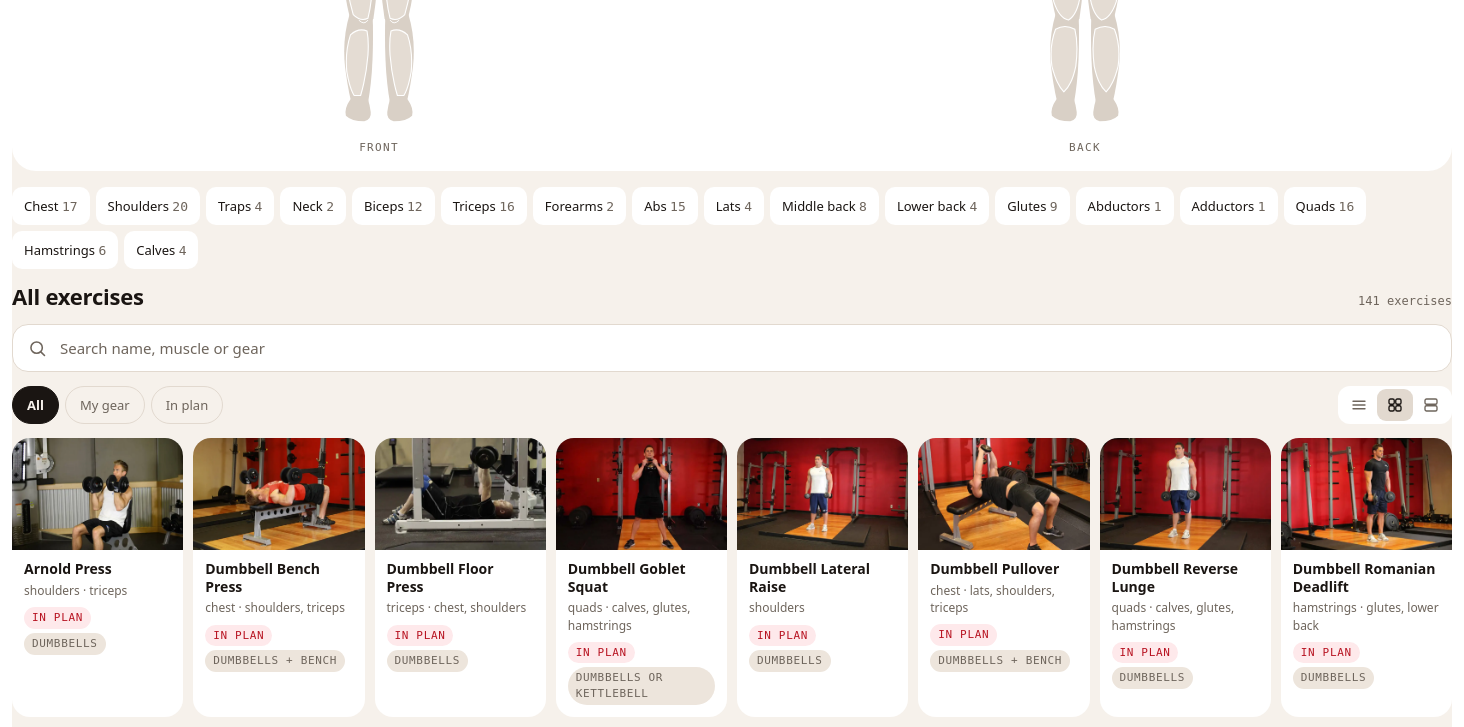
ExercisesScreen: catalog › filters by owned equipment and by the plan
(page scrolled)
Step 1. Click the radio button labelled "My gear" → point(105, 406), box left=65, top=386, right=145, bottom=424
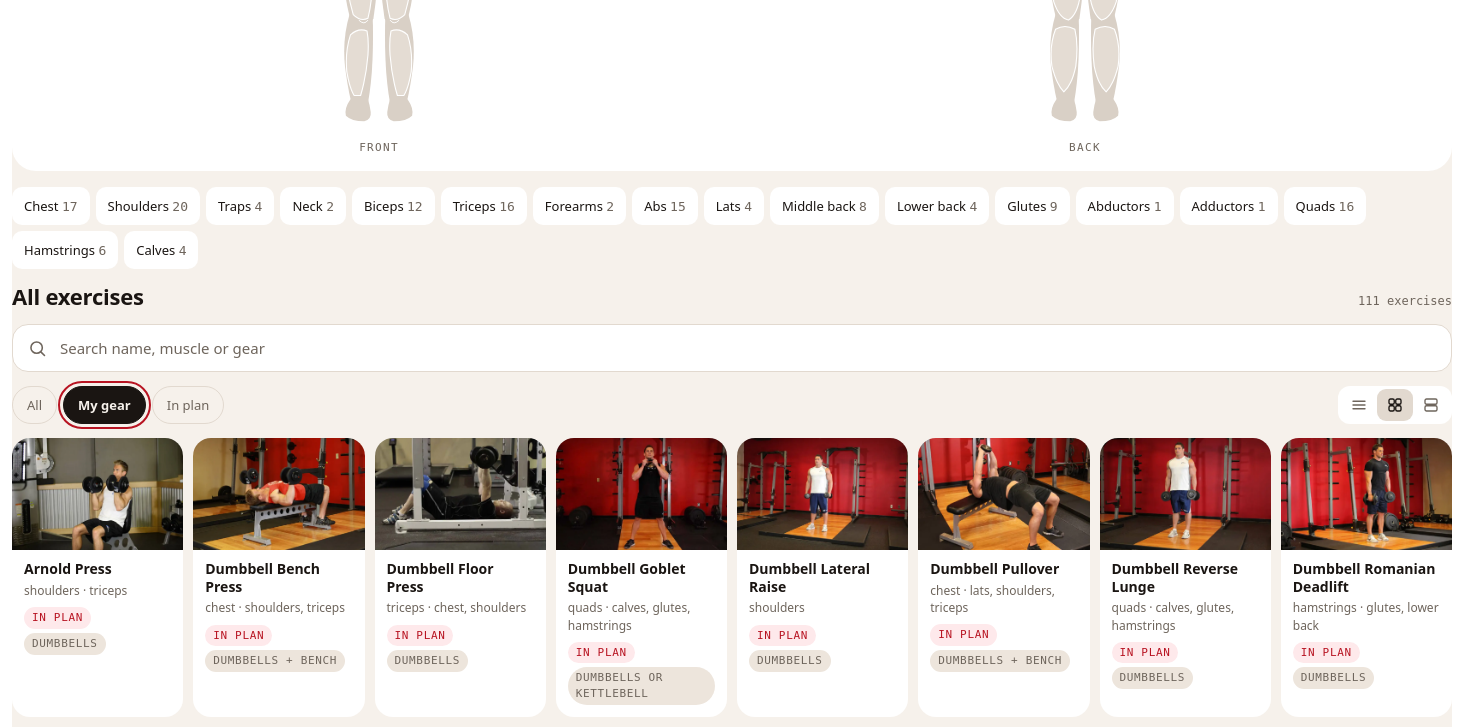
Step 2. Click the radio button labelled "In plan" → point(188, 406), box left=152, top=386, right=224, bottom=424
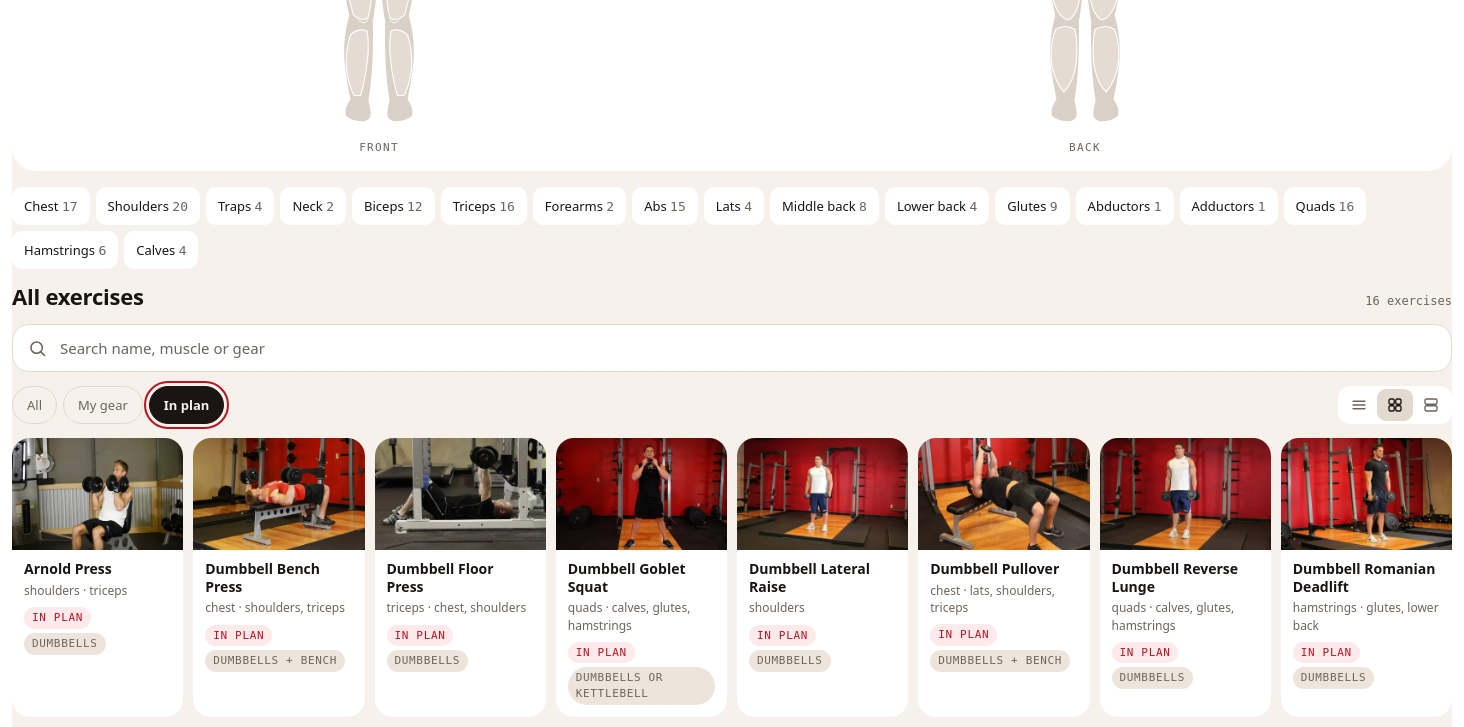
Check: the message reads "16 exercises", box left=1365, top=294, right=1452, bottom=308
